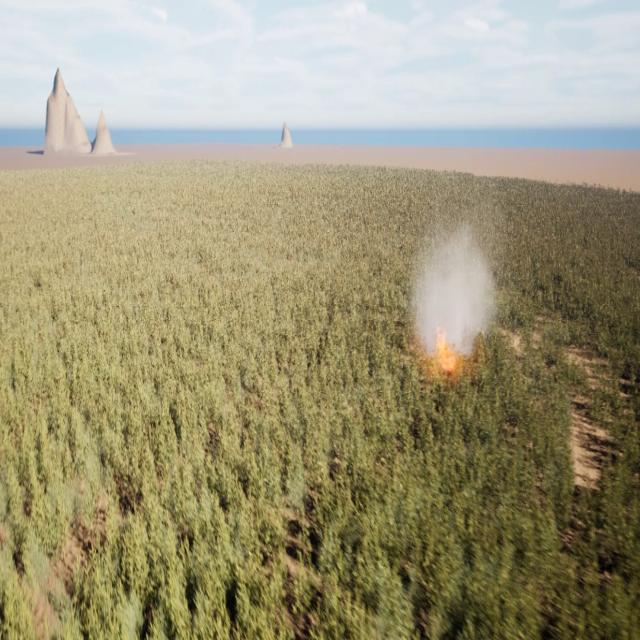fire: (431, 327, 462, 368)
smoke: (411, 212, 500, 374)
